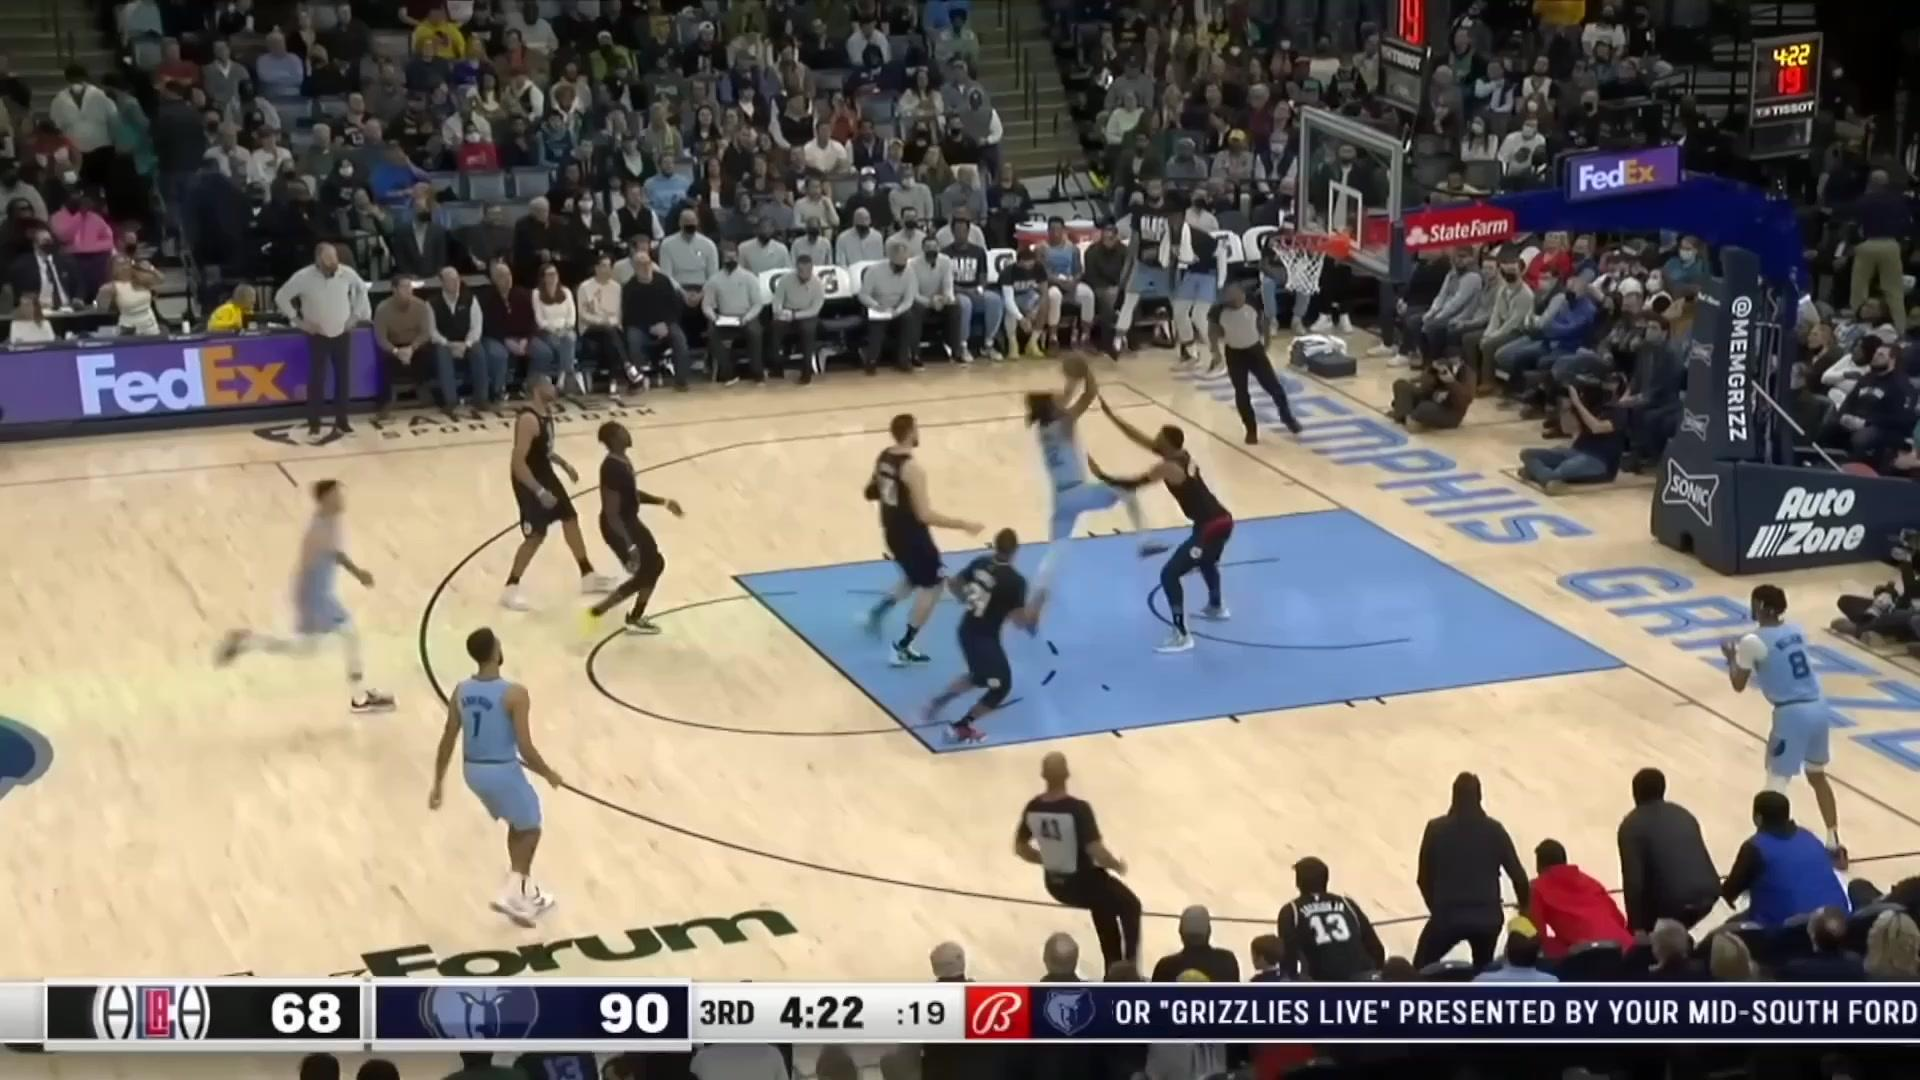foul: (1010, 339, 1236, 647)
